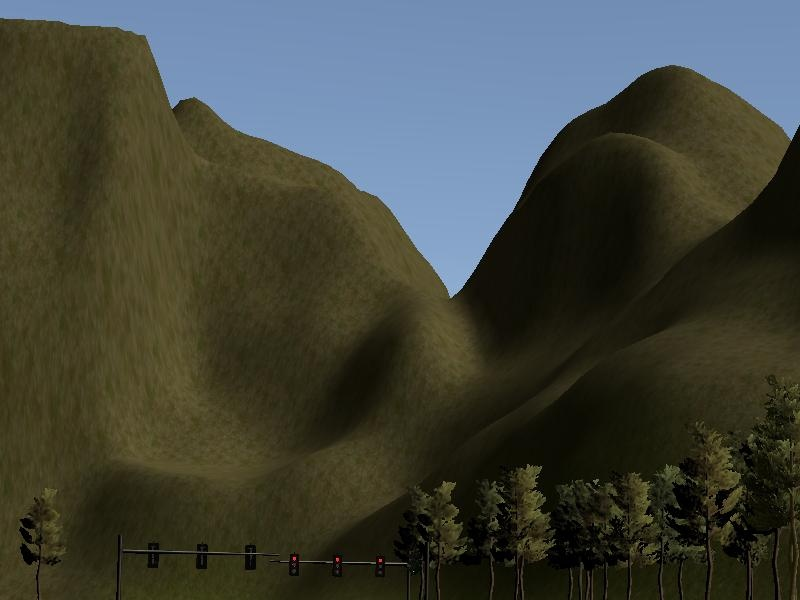red: (288, 551, 301, 578), (331, 553, 344, 579), (374, 553, 386, 579)
